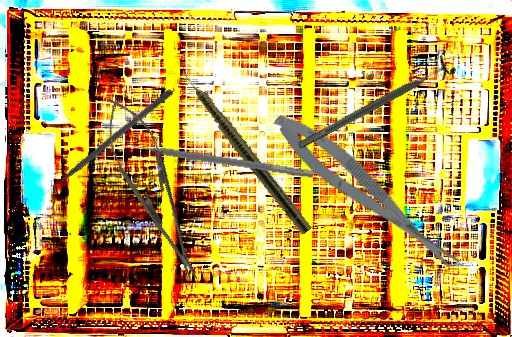Fixation Ring: (292, 49, 458, 158)
Handpiece: (170, 58, 315, 236)
Micro Scissor: (265, 102, 466, 284)
Needle Holder: (90, 88, 215, 291)
Pusher: (42, 87, 174, 196)
Spatula Surgical: (123, 135, 316, 179)
